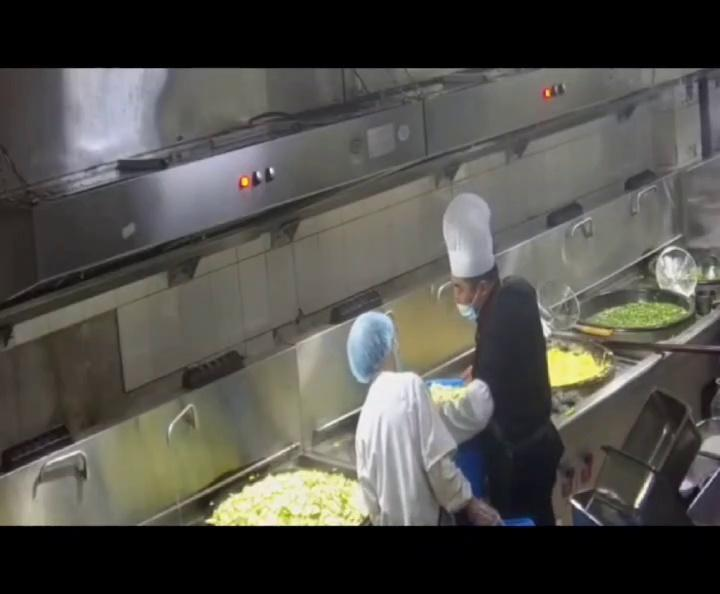gloves: (346, 311, 396, 384)
hairnet: (455, 284, 485, 321)
